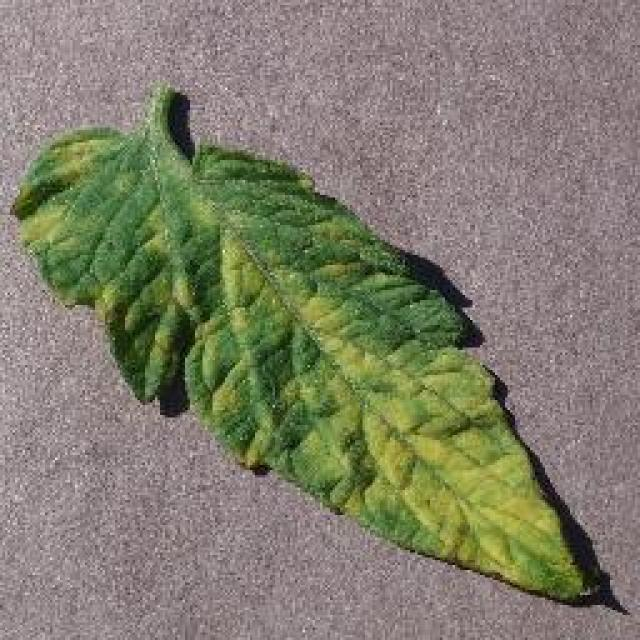leaf mold: (11, 88, 605, 609)
